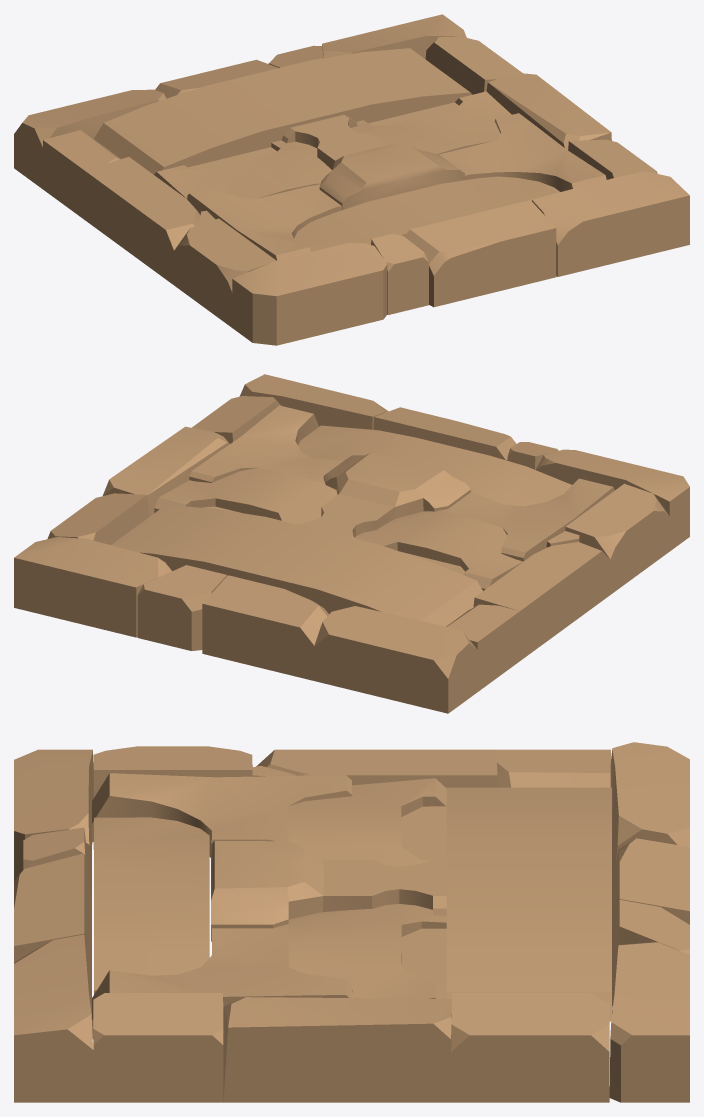
The model's file is OBJ_Sculpture_01.FBX.
3 views of the same model, one above another, from view 1: azimuth 30°, elevation 25°; view 2: azimuth 150°, elevation 25°; view 3: azimuth 270°, elevation 25° (orthographic). The views are drawn at different scales.
Parts seen in each view (by area): view 1: OBJ_Sculpture_01; view 2: OBJ_Sculpture_01; view 3: OBJ_Sculpture_01.
Boxes of the visible parts, x1=… form: OBJ_Sculpture_01: x1=14, y1=14, x2=689, y2=345; OBJ_Sculpture_01: x1=14, y1=374, x2=689, y2=713; OBJ_Sculpture_01: x1=14, y1=742, x2=689, y2=1102.
Size of the model in its own units: 18 by 2.87 by 18.
